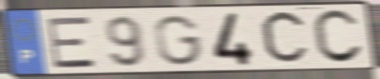4: (211, 10, 257, 68)
9: (103, 14, 148, 69)
C: (310, 8, 367, 66), (258, 8, 311, 69)
E: (44, 15, 100, 70)
G: (152, 14, 205, 67)
